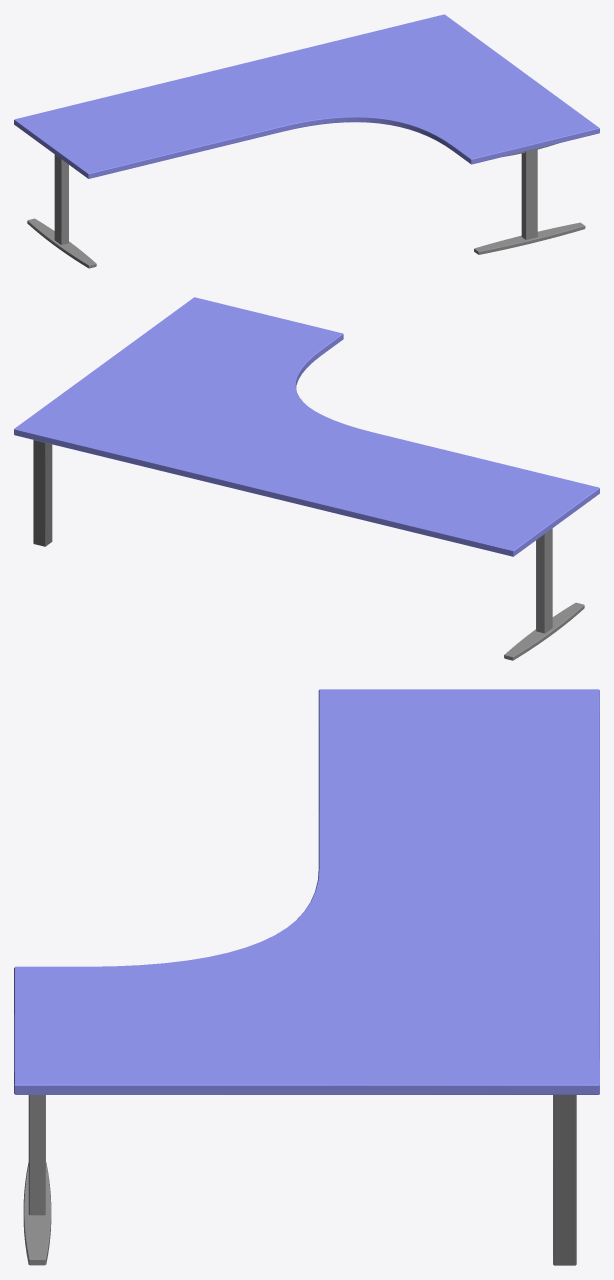
File: Single-Corner.FBX
The picture shows the model from 3 angles, top to bottom: view 1: azimuth 30°, elevation 25°; view 2: azimuth 150°, elevation 25°; view 3: azimuth 270°, elevation 25°; orthographic projection. The views are drawn at different scales.
Parts seen in each view (by area): view 1: MESH, Object006, Object009; view 2: MESH, Object009, Object013; view 3: MESH, Object013, Object006.
Boxes of the visible parts, x1,y1,x2,y2 form: MESH: [14, 14, 599, 178]; Object006: [474, 143, 585, 254]; Object009: [27, 154, 96, 268]; MESH: [14, 297, 599, 556]; Object009: [504, 528, 584, 660]; Object013: [33, 440, 52, 546]; MESH: [14, 689, 599, 1094]; Object013: [553, 1095, 576, 1265]; Object006: [23, 1095, 51, 1265].
Size of what is drawn, in the model's own units: 400 by 90 by 250.
